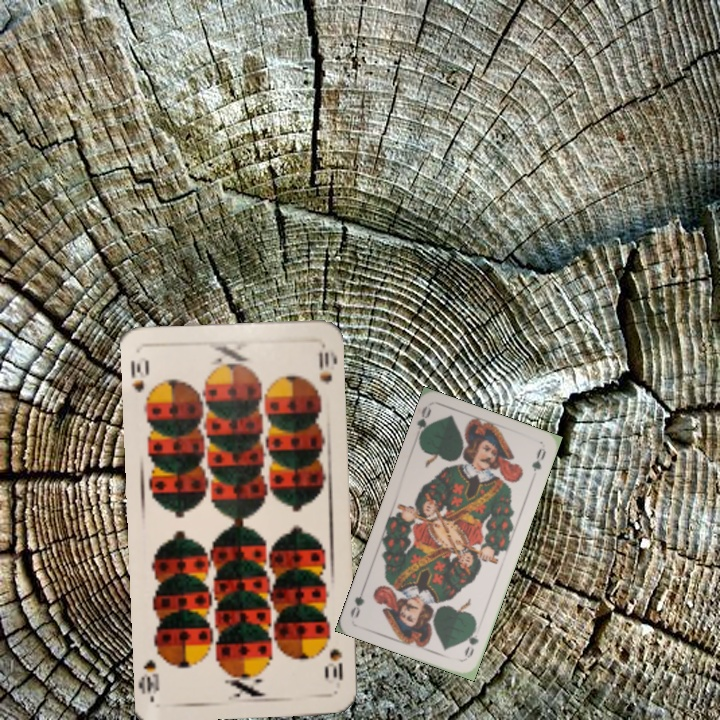GO: (413, 403, 434, 444), (460, 622, 481, 661)
S10: (126, 356, 154, 408), (323, 645, 346, 686)
